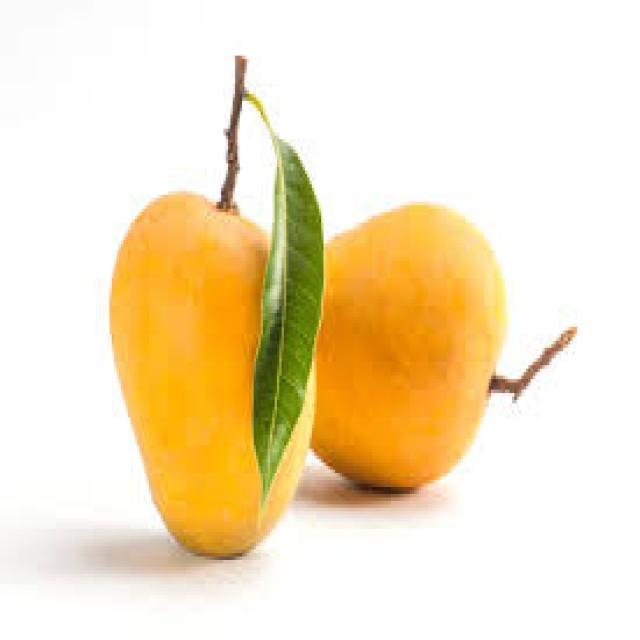Mango: (115, 197, 309, 555), (299, 213, 509, 502)
